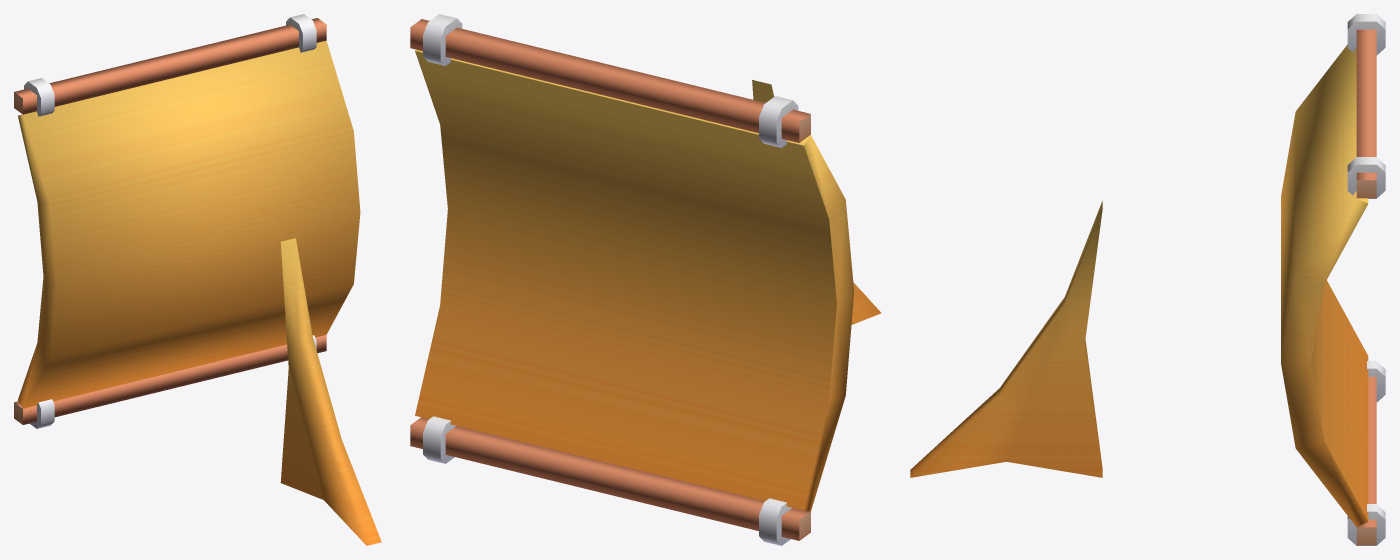
The model's file is sail_yellow.glb.
The picture shows the model from 3 angles, left to right: view 1: azimuth 30°, elevation 25°; view 2: azimuth 150°, elevation 25°; view 3: azimuth 270°, elevation 25°; orthographic projection. The views are drawn at different scales.
Parts seen in each view (by area): view 1: sail-a_yellow; view 2: sail-a_yellow; view 3: sail-a_yellow.
Part boxes in pixels (x1,y1,x2,y2): sail-a_yellow: (14, 14, 381, 545); sail-a_yellow: (410, 14, 881, 545); sail-a_yellow: (910, 14, 1385, 545).
Size of the model in its own units: 4.4 by 4.76 by 5.33.
1 material, 1 textured.
